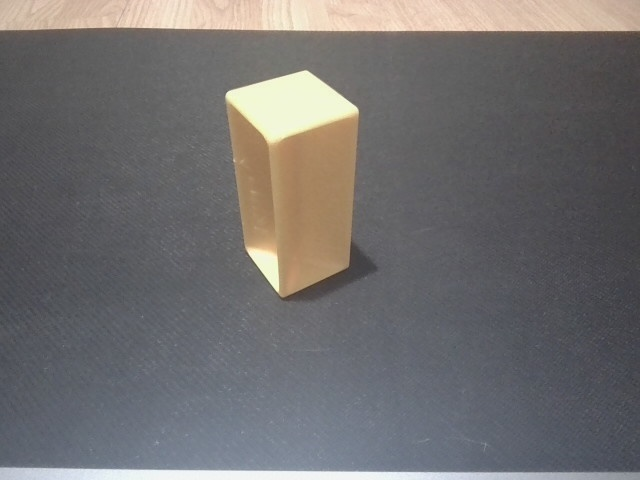YellowSample: (220, 66, 363, 303)
